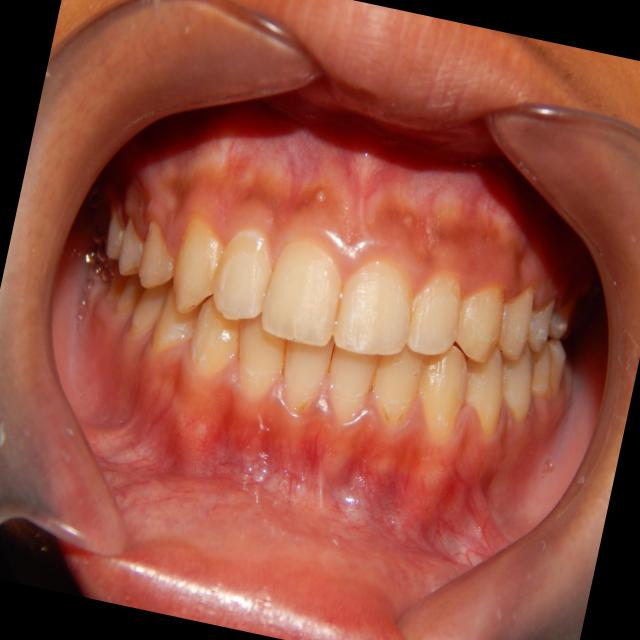Tooth: (261, 240, 341, 346), (332, 258, 411, 355), (212, 228, 272, 319), (173, 216, 225, 313), (417, 345, 467, 440), (406, 274, 460, 355), (150, 284, 212, 353), (373, 343, 427, 421), (283, 334, 334, 413), (190, 295, 240, 374), (238, 313, 286, 395), (455, 286, 504, 362), (329, 344, 378, 420), (465, 345, 503, 436), (495, 283, 535, 360), (129, 276, 173, 333), (501, 344, 533, 422), (138, 221, 174, 289), (526, 297, 555, 351), (118, 216, 143, 275), (548, 299, 574, 339), (107, 204, 124, 259)
